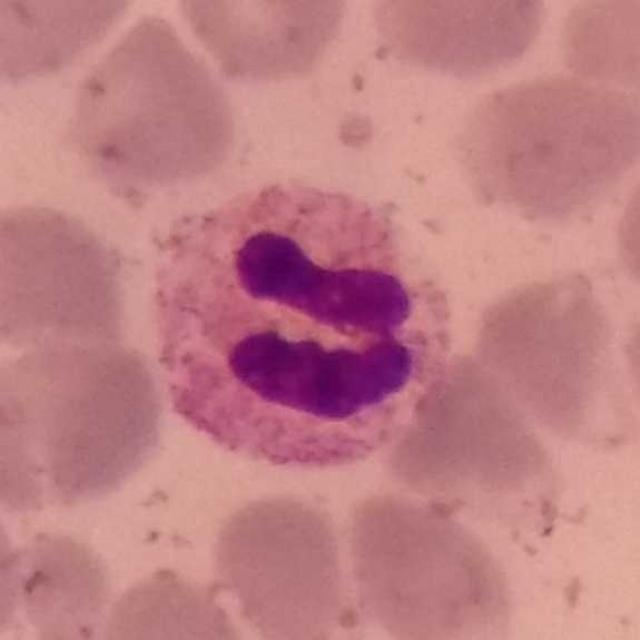Neutrophil: (152, 182, 460, 486)
Platelets: (329, 103, 388, 164)
RBC: (60, 6, 243, 198), (0, 330, 171, 513), (451, 66, 639, 225), (468, 262, 634, 440), (338, 485, 523, 640), (378, 372, 566, 522), (205, 485, 357, 639), (0, 193, 136, 354), (168, 0, 358, 87), (360, 0, 553, 82), (90, 561, 271, 640), (2, 522, 116, 640), (0, 0, 147, 85), (547, 1, 640, 96), (607, 134, 640, 307), (0, 466, 30, 640), (613, 270, 640, 453)
